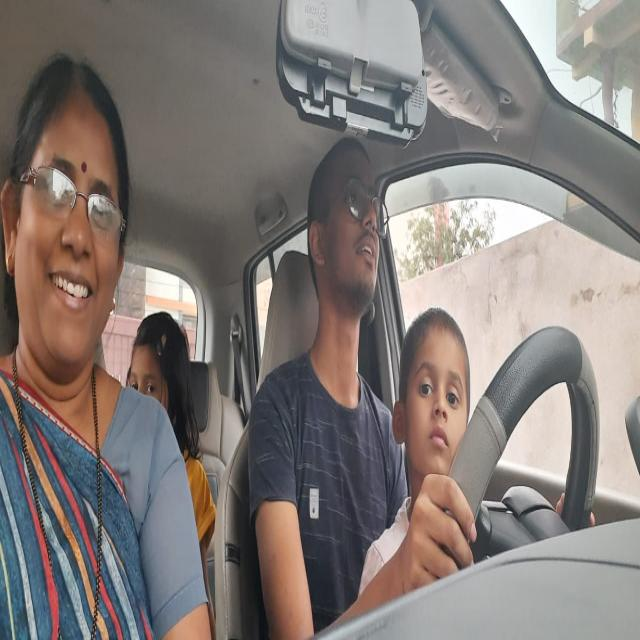child: (398, 312, 468, 478)
person: (5, 73, 128, 379), (309, 135, 385, 324), (126, 314, 186, 392)
